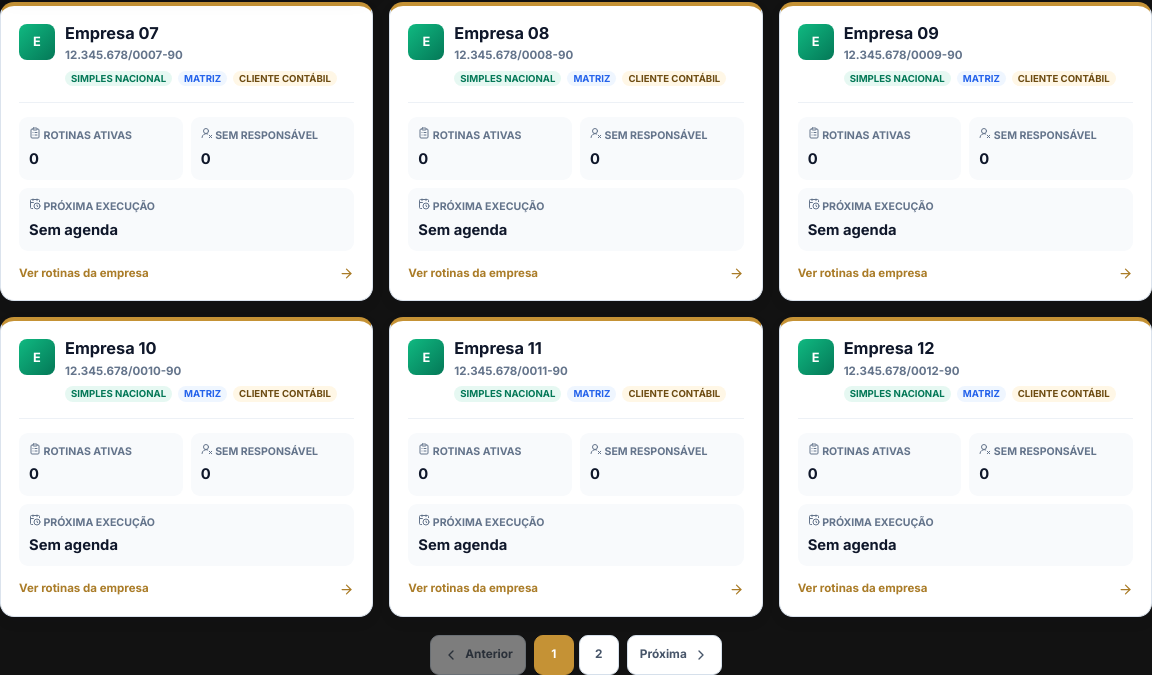
Scenario: AbaRotinas › preserva filtros e página ao abrir uma empresa e voltar
The width and height of the screenshot is (1152, 675).
(page scrolled)
Click the button with aria-label "Próxima página". click: click(674, 655)
box: [627,635,722,674]
(page scrolled)
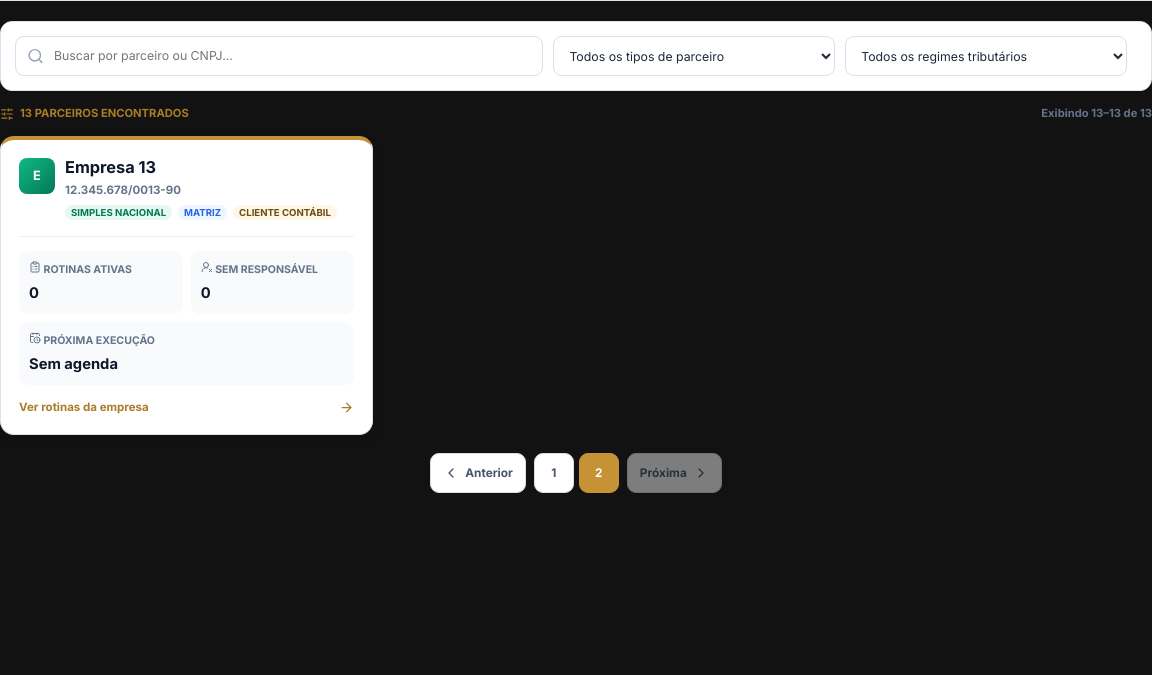
Click the button "Empresa 13". click: click(187, 286)
box: [0,136,373,435]
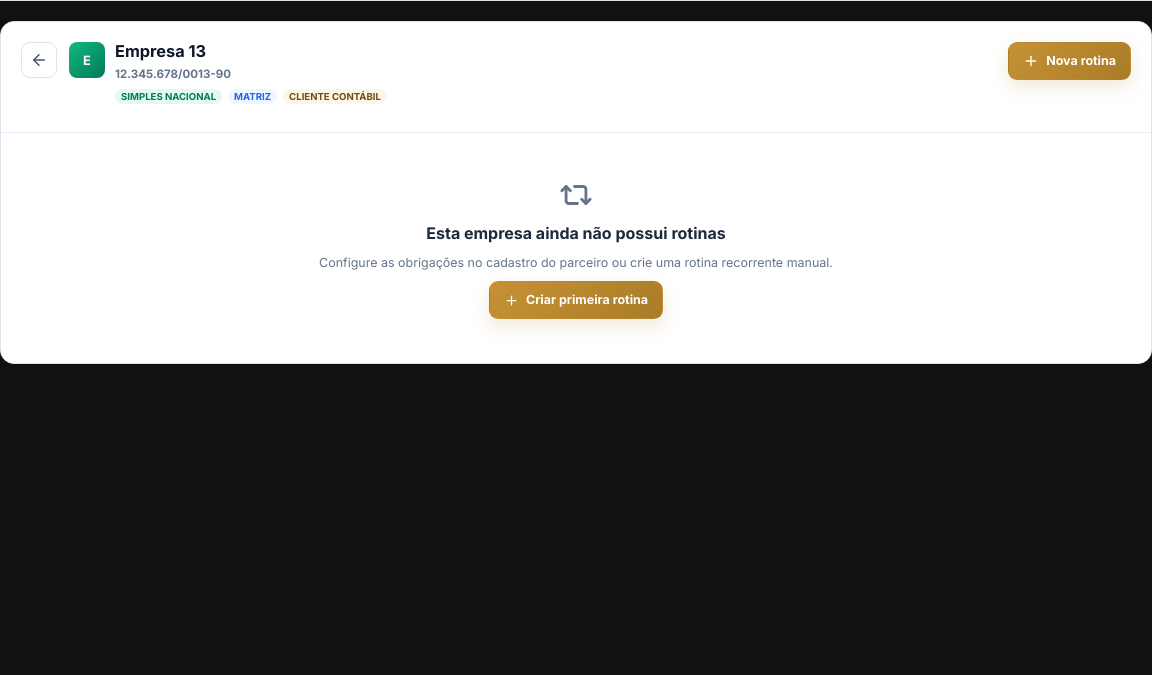
Click the button named "Voltar para empresas". click: click(39, 60)
box: [21,42,57,78]
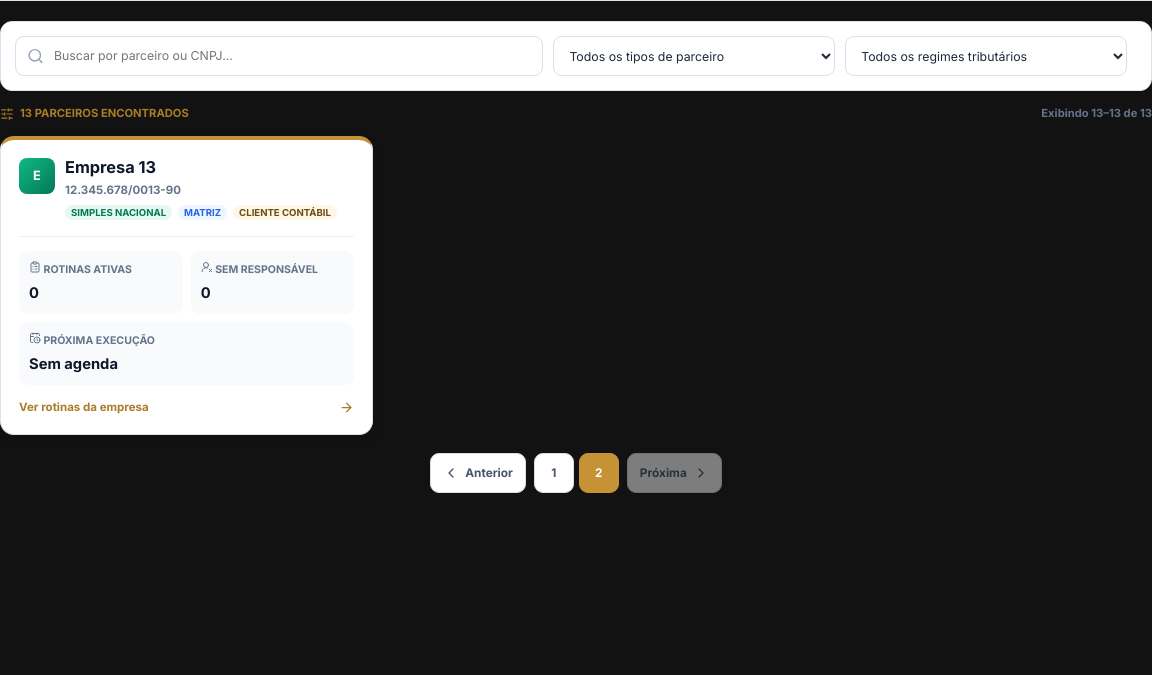
Result: the button "Empresa 13" is shown at [0,136,373,435]
